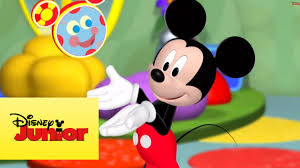mickey: (99, 1, 256, 168)
